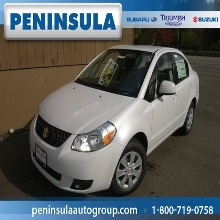no damage: (28, 43, 200, 196)
